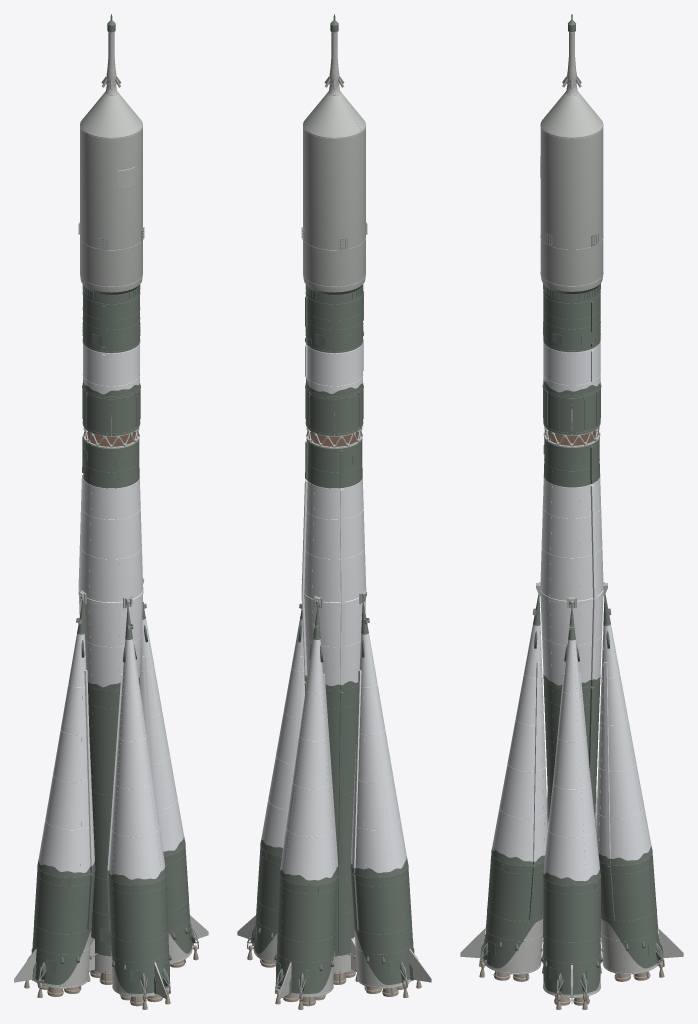
The model's file is vehicle.glb.
The picture shows the model from 3 angles, left to right: view 1: azimuth 30°, elevation 25°; view 2: azimuth 150°, elevation 25°; view 3: azimuth 270°, elevation 25°; orthographic projection.
Visible parts, largest first — view 1: Core_Frost, Fairing_Left_Fittings, Booster_D_Frost, Booster_G_Frost, Core_Skin, Booster_D_Skin, Booster_G_Skin, Booster_B_Frost, BlockI_FairingSupport, BlockI_Frost, Booster_B_Skin, AftSection_2_Skin (+6 smaller); view 2: Core_Frost, Fairing_Right_Fittings, Booster_V_Frost, Booster_G_Frost, Core_Skin, Booster_V_Skin, Booster_G_Skin, Booster_B_Frost, BlockI_FairingSupport, BlockI_Frost, Booster_B_Skin, Core_Fittings (+7 smaller); view 3: Core_Frost, Booster_B_Frost, Booster_D_Frost, Booster_V_Frost, Booster_B_Skin, Fairing_Right_Fittings, Fairing_Left_Fittings, Booster_V_Skin, Booster_D_Skin, Core_Skin, BlockI_FairingSupport, BlockI_Frost (+5 smaller).
Boxes of the visible parts, x1,y1,x2,y2 form: Core_Frost: (78, 474, 143, 687); Fairing_Left_Fittings: (84, 93, 142, 292); Booster_D_Frost: (107, 639, 165, 879); Booster_G_Frost: (38, 633, 94, 872); Core_Skin: (83, 438, 139, 956); Booster_D_Skin: (108, 607, 169, 993); Booster_G_Skin: (32, 601, 95, 984); Booster_B_Frost: (139, 618, 184, 851); BlockI_FairingSupport: (82, 284, 140, 397); BlockI_Frost: (82, 341, 140, 394); Booster_B_Skin: (142, 602, 191, 953); AftSection_2_Skin: (82, 385, 111, 435); Core_Frost: (301, 476, 366, 685); Fairing_Right_Fittings: (303, 93, 361, 292); Booster_V_Frost: (280, 639, 338, 880); Booster_G_Frost: (351, 633, 406, 872); Core_Skin: (306, 438, 362, 956); Booster_V_Skin: (276, 607, 337, 993); Booster_G_Skin: (350, 601, 413, 984); Booster_B_Frost: (261, 618, 305, 848); BlockI_FairingSupport: (305, 284, 363, 397); BlockI_Frost: (305, 339, 363, 393); Booster_B_Skin: (254, 609, 302, 953); Core_Fittings: (304, 441, 359, 952); Core_Frost: (540, 476, 603, 685); Booster_B_Frost: (543, 639, 599, 881); Booster_D_Frost: (492, 624, 547, 861); Booster_V_Frost: (596, 624, 651, 860); Booster_B_Skin: (543, 607, 600, 994); Fairing_Right_Fittings: (572, 93, 603, 291); Fairing_Left_Fittings: (540, 93, 571, 291); Booster_V_Skin: (598, 594, 659, 968); Booster_D_Skin: (484, 594, 545, 968); Core_Skin: (543, 436, 600, 820); BlockI_FairingSupport: (543, 283, 600, 396); BlockI_Frost: (543, 341, 600, 392).
Bounding box in the file's own units: 10.41 × 49.35 × 10.41.
